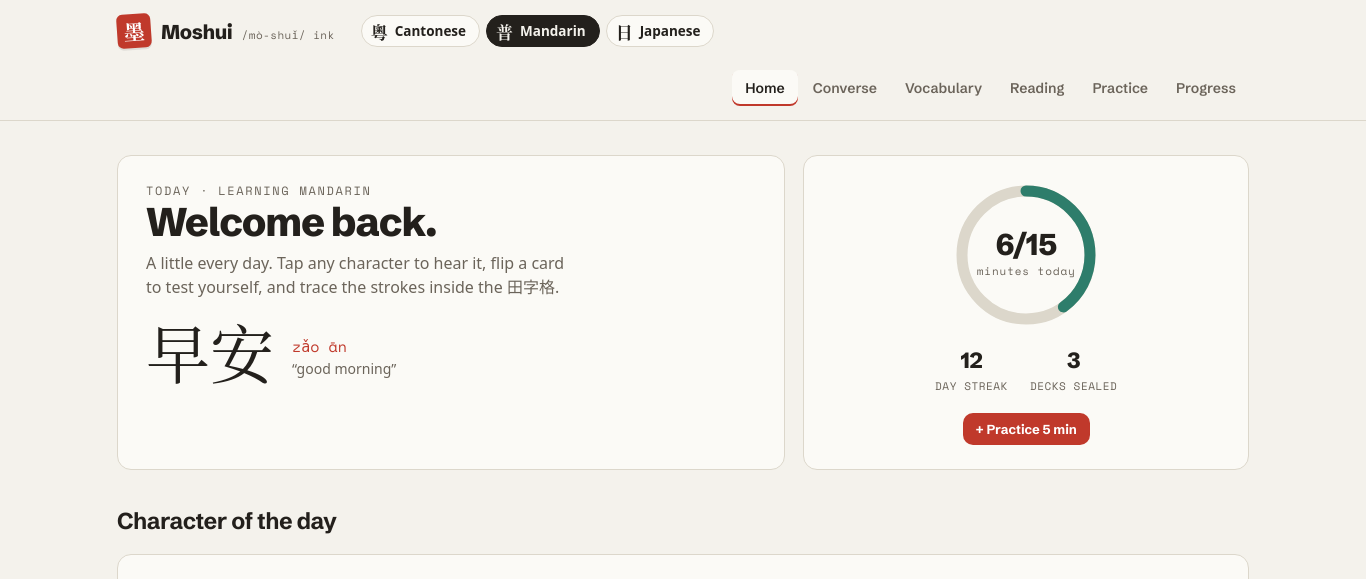
Scenario: Converse tutor: demo mode + live proxy (T1) › shows the scripted demo-mode notice when no proxy is configured
Click the button "Converse" at (845, 88), box [800,70,890,106]
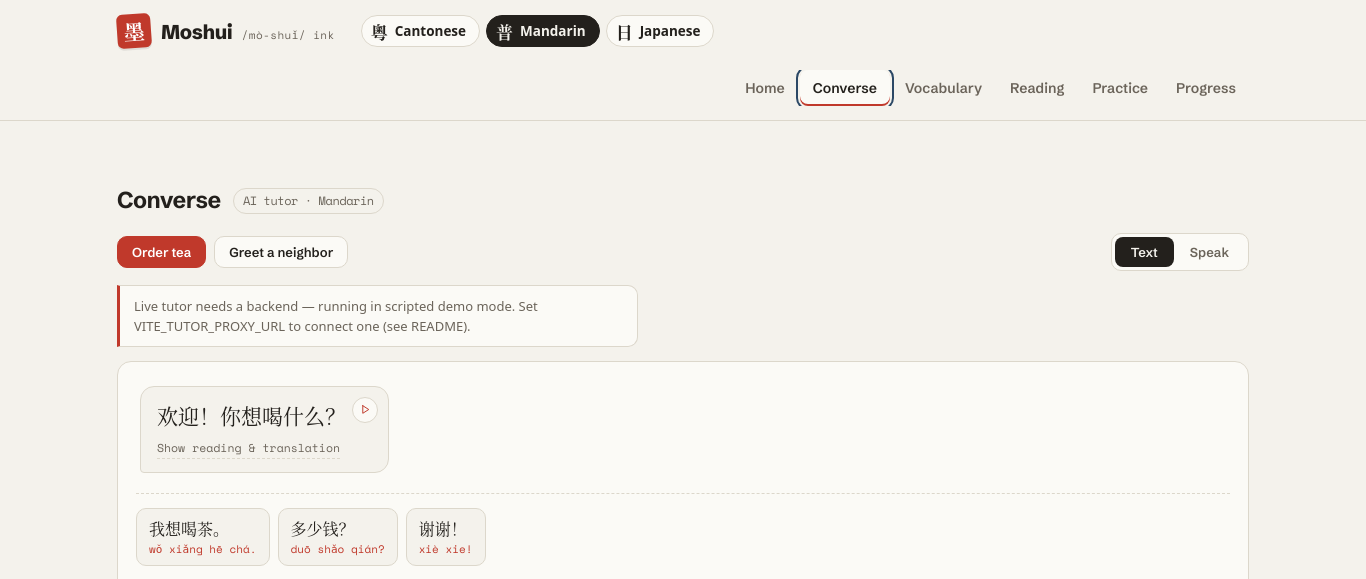
Expected: the text "scripted demo mode" is shown, [134,297,538,335]
